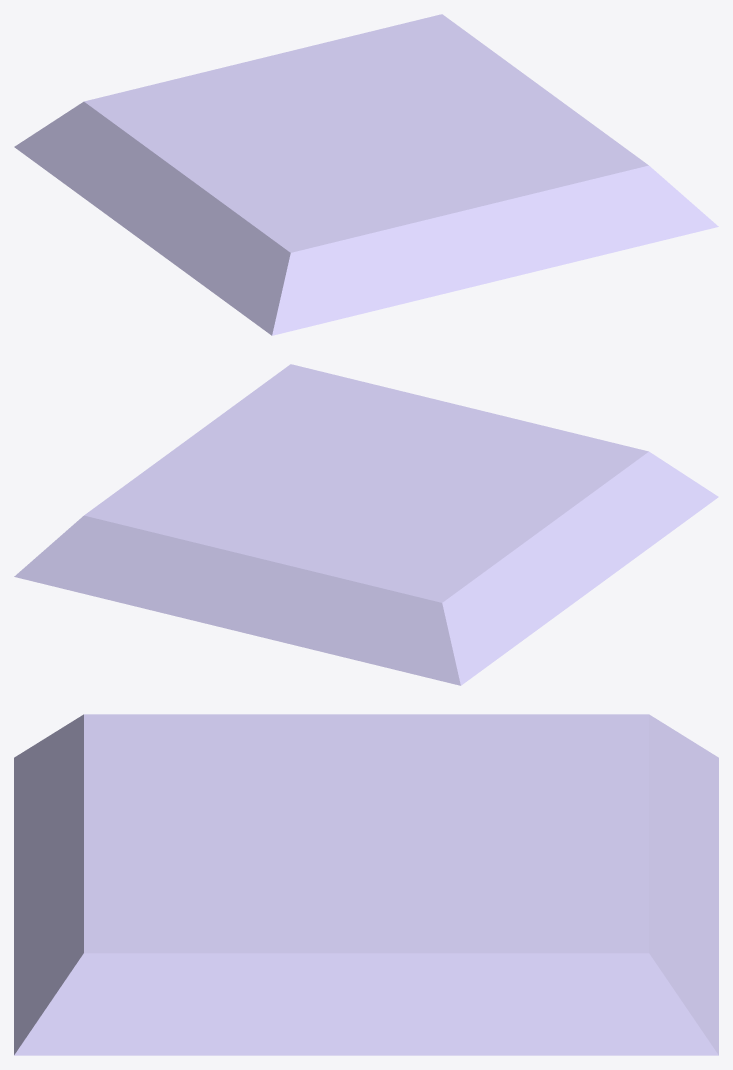
The model's file is Resource.FBX.
3 views of the same model, one above another, from view 1: azimuth 30°, elevation 25°; view 2: azimuth 150°, elevation 25°; view 3: azimuth 270°, elevation 25° (orthographic). The views are drawn at different scales.
Parts seen in each view (by area): view 1: Box002; view 2: Box002; view 3: Box002.
Part boxes in pixels (left/top/right/bottom): Box002: left=14, top=14, right=718, bottom=335; Box002: left=14, top=364, right=718, bottom=685; Box002: left=14, top=714, right=718, bottom=1055.
Bounding box in the file's own units: 24.92 × 2.85 × 24.92.
